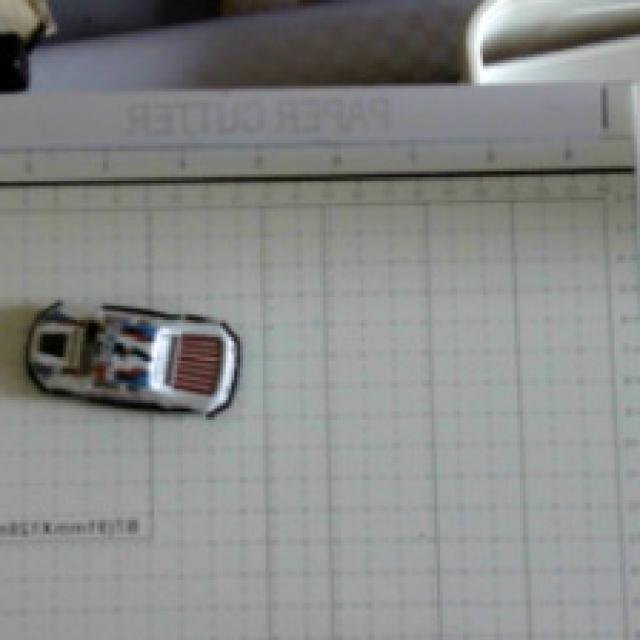Grey Car: (5, 268, 267, 467)
